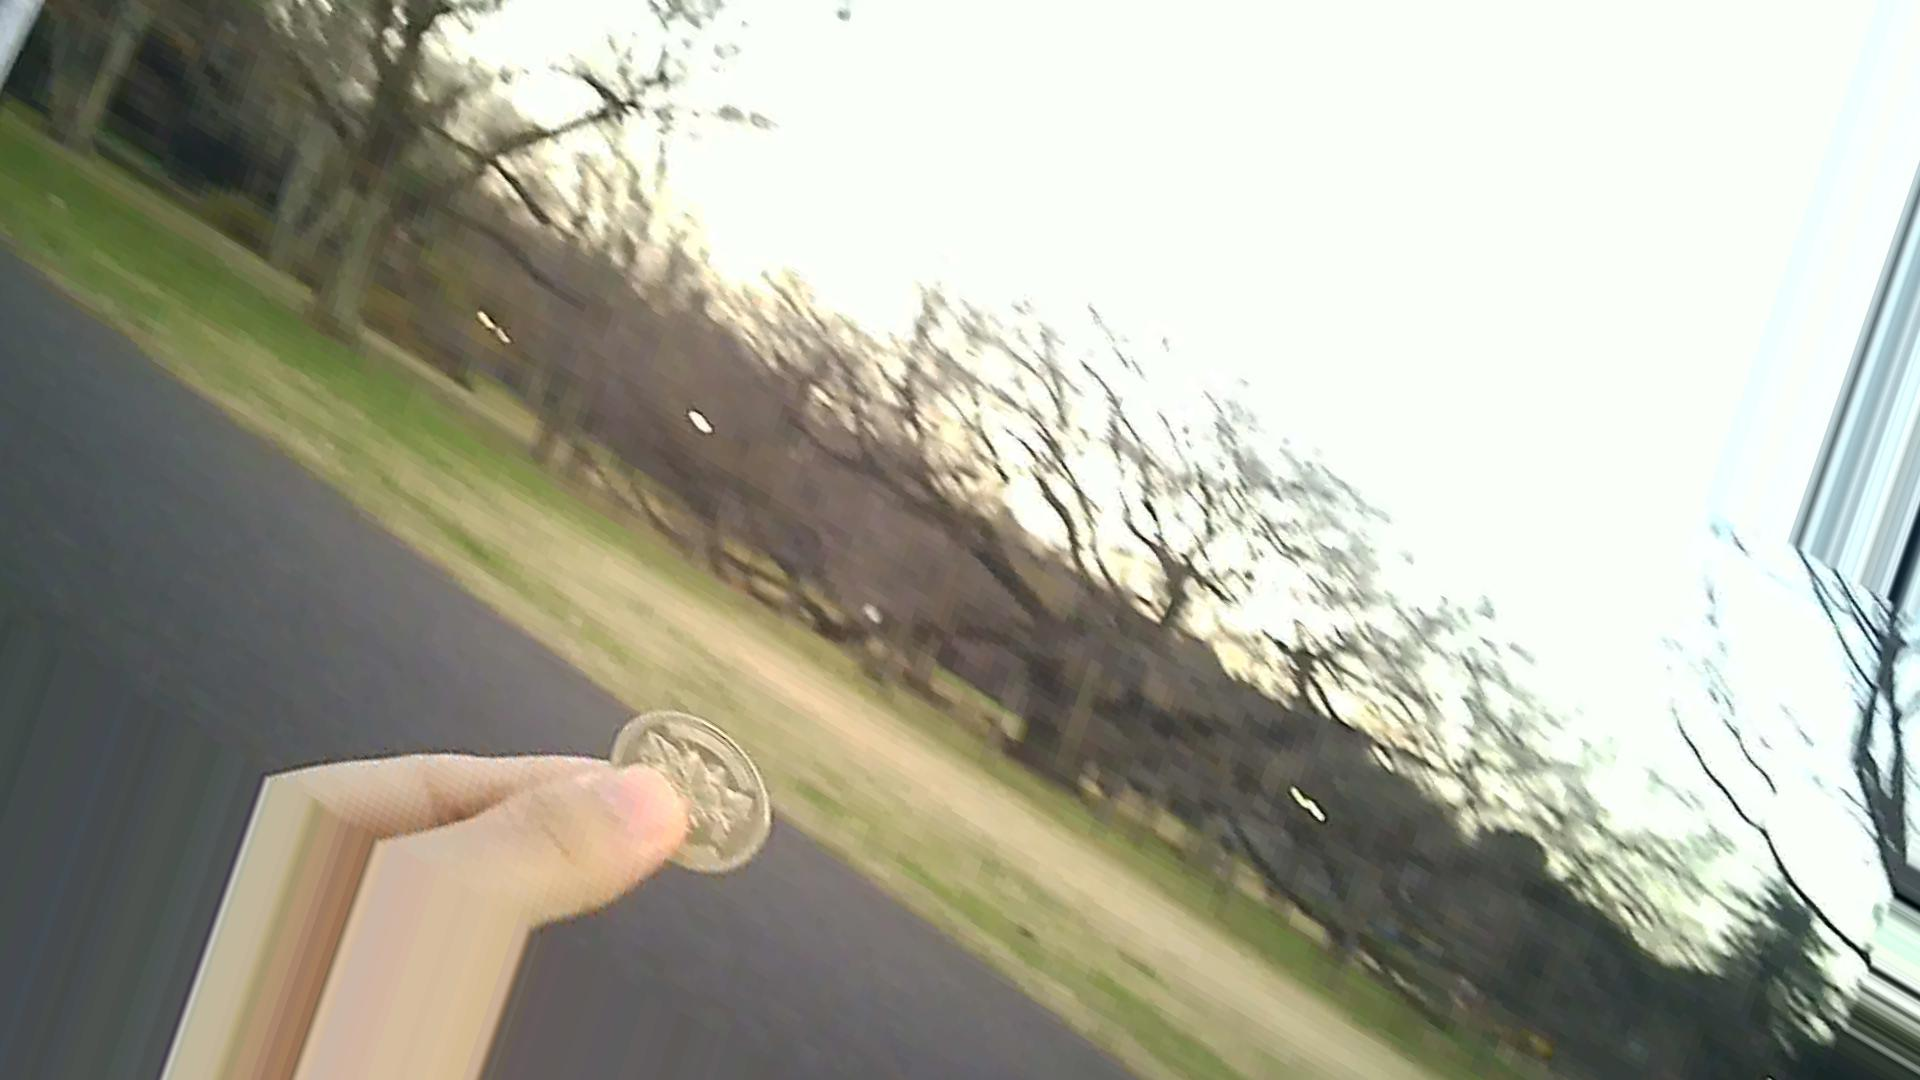500 Yen: (600, 692, 765, 880)
